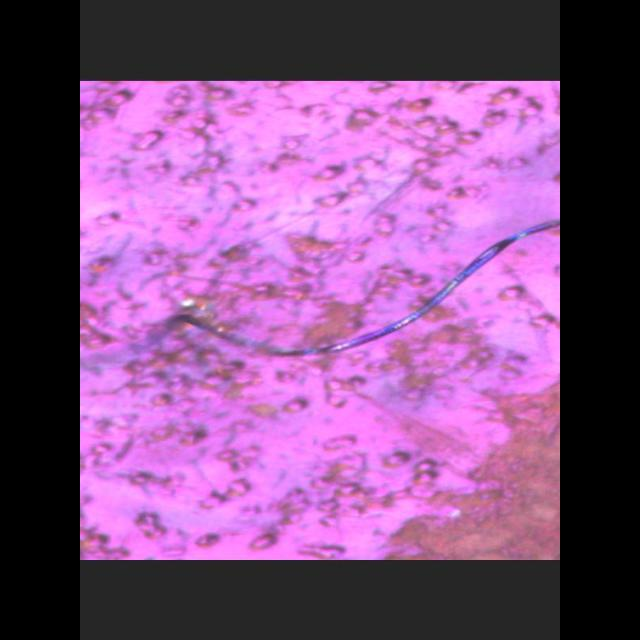Fibre: (154, 208, 560, 386)
